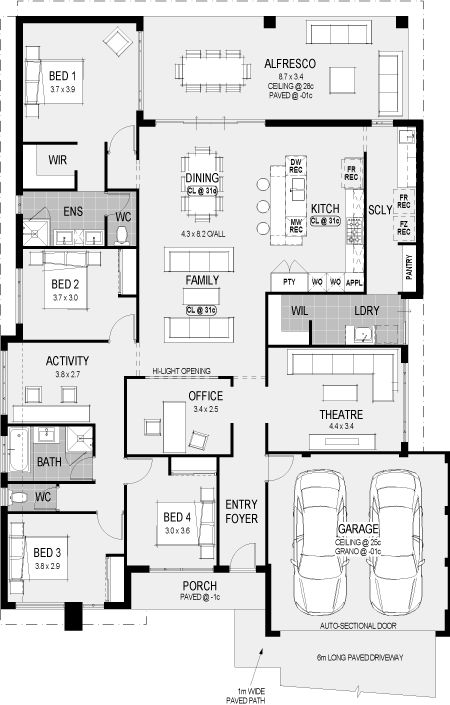room: (136, 119, 366, 296), (16, 17, 144, 144), (264, 345, 407, 455), (1, 511, 127, 609), (15, 246, 139, 344), (124, 454, 219, 573)
